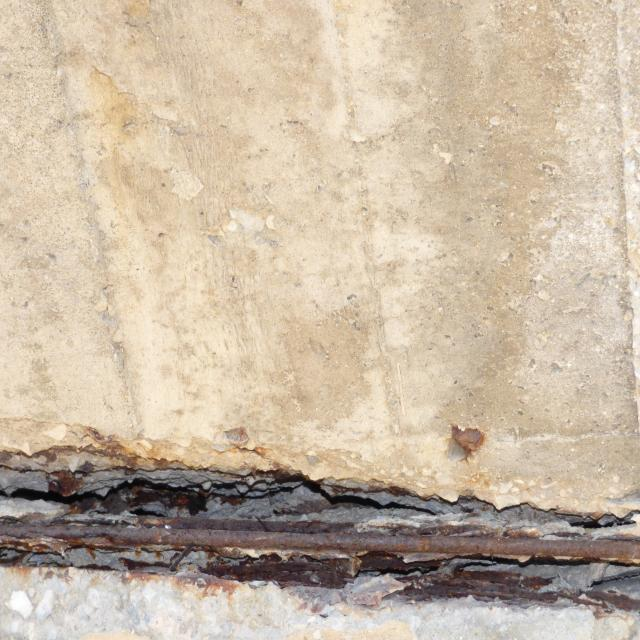corrosion: (0, 438, 640, 626), (445, 406, 502, 472)
